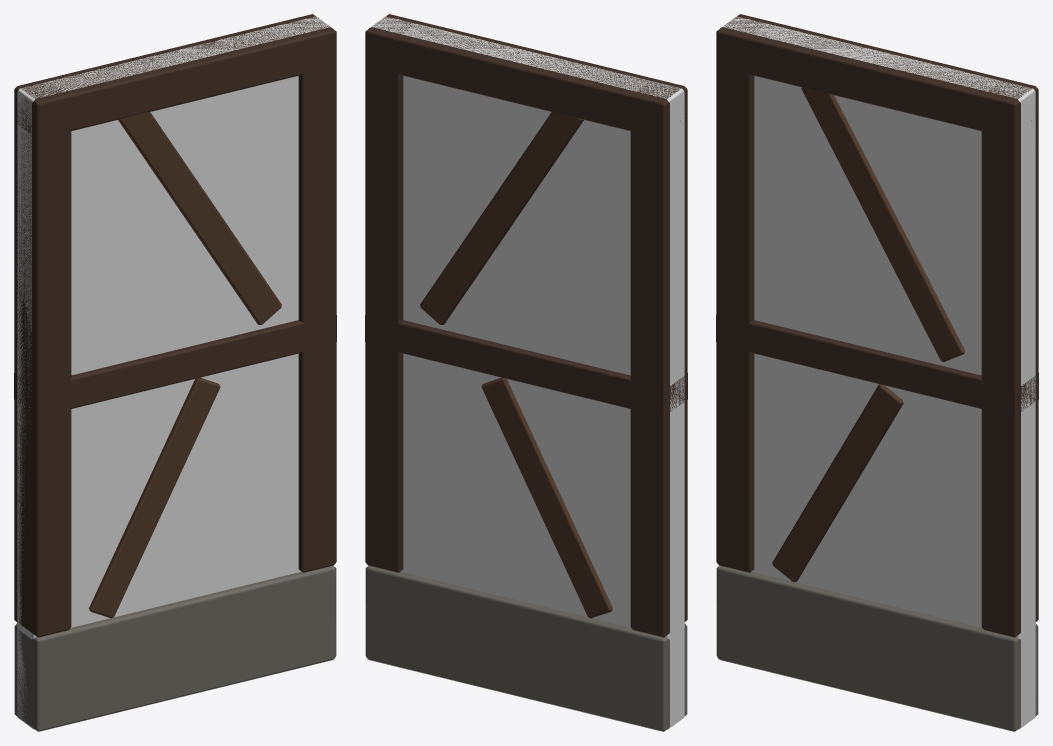
The model's file is village-wall-timber.50835dc1.glb.
The picture shows the model from 3 angles, left to right: view 1: azimuth 30°, elevation 25°; view 2: azimuth 150°, elevation 25°; view 3: azimuth 330°, elevation 25°; orthographic projection.
Visible parts, largest first — view 1: body; view 2: body; view 3: body.
Part boxes in pixels (x1,y1,x2,y2): body: (14,14,336,731); body: (365,14,687,731); body: (716,14,1038,731).
Bounding box in the file's own units: 1 × 2 × 0.14.
